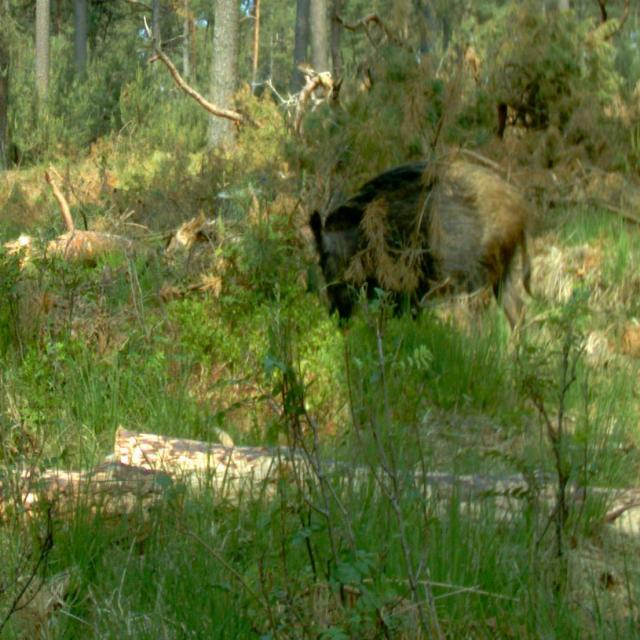pig: (283, 137, 548, 359)
